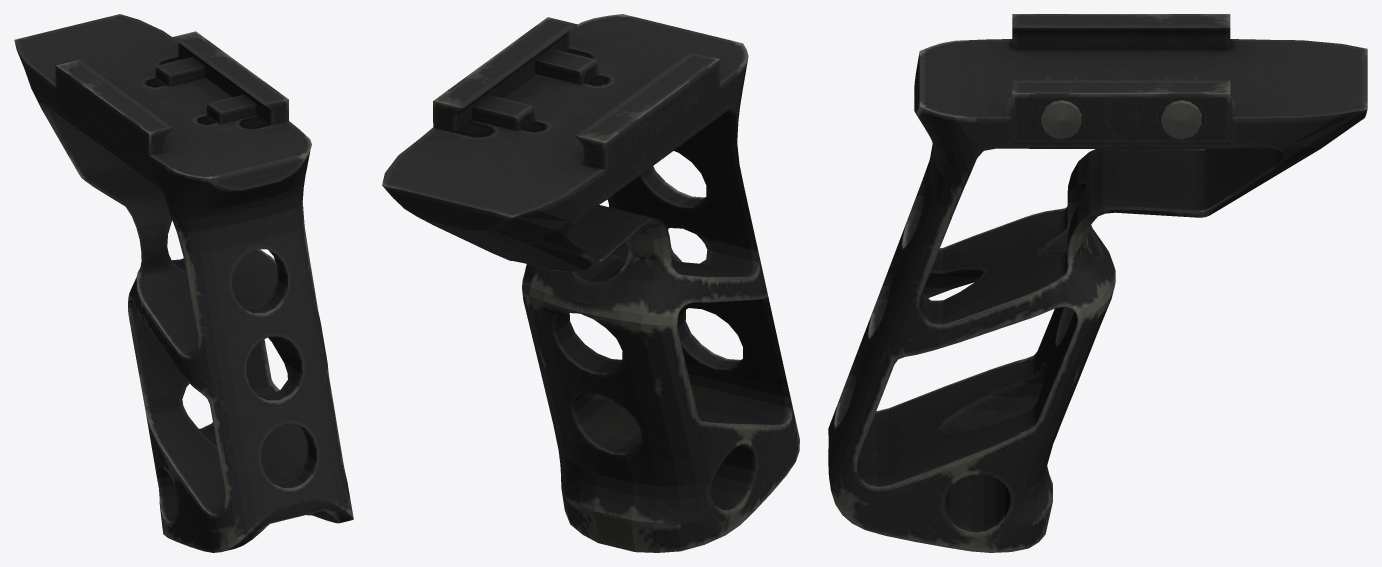
3 views of the same model, side by side, from view 1: azimuth 30°, elevation 25°; view 2: azimuth 150°, elevation 25°; view 3: azimuth 270°, elevation 25° (orthographic). The views are drawn at different scales.
Visible parts, largest first — view 1: TW_59f8a37386f7747af3328f06_PZ_Import; view 2: TW_59f8a37386f7747af3328f06_PZ_Import; view 3: TW_59f8a37386f7747af3328f06_PZ_Import.
Boxes of the visible parts, x1=… form: TW_59f8a37386f7747af3328f06_PZ_Import: x1=14, y1=14, x2=353, y2=552; TW_59f8a37386f7747af3328f06_PZ_Import: x1=382, y1=14, x2=799, y2=552; TW_59f8a37386f7747af3328f06_PZ_Import: x1=828, y1=14, x2=1367, y2=552.
Bounding box in the file's own units: 0.0168 × 0.0469 × 0.0453.
1 material, 1 textured.
